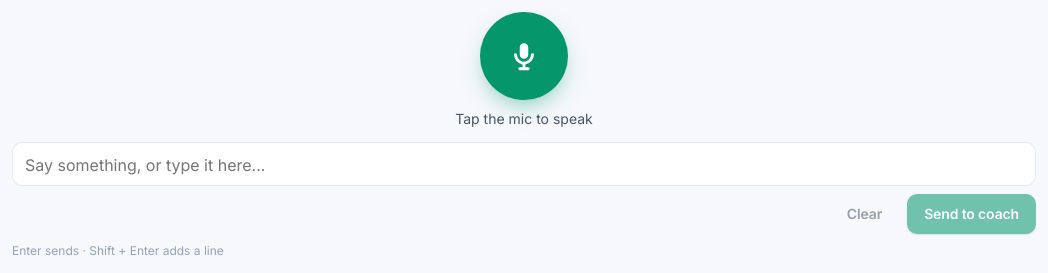
it: VoiceInputBar › with SpeechRecognition support › starts recognition on mic click
Click the button named "start recording" at (524, 56), box [480, 12, 568, 100]
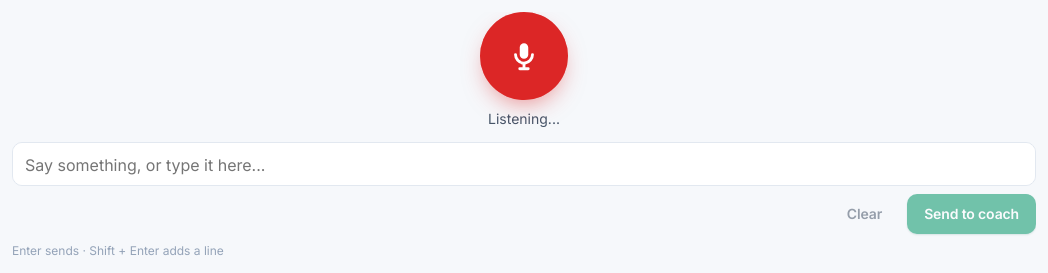
Expected: the button named "stop recording" is shown, [480, 12, 568, 100]
